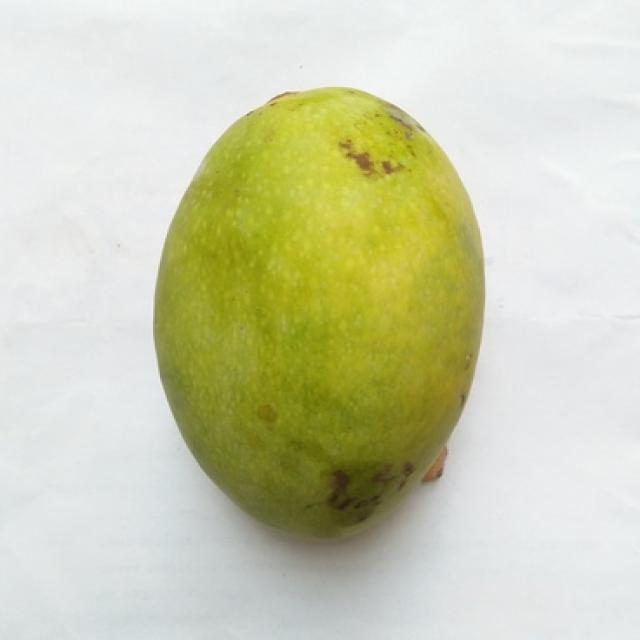Mango: (157, 88, 483, 535)
